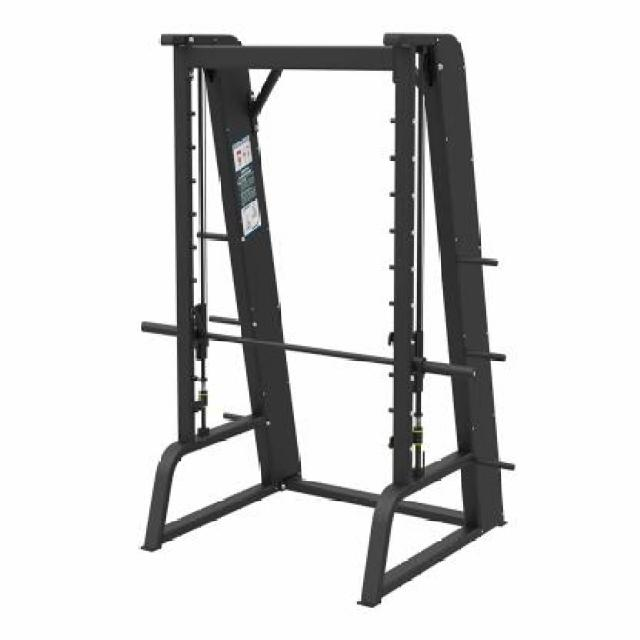smith machine: (138, 29, 516, 606)
